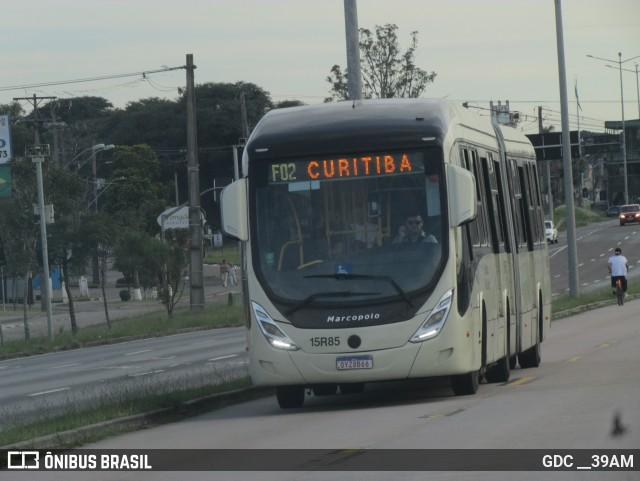CURITIBA: (300, 148, 418, 184)
